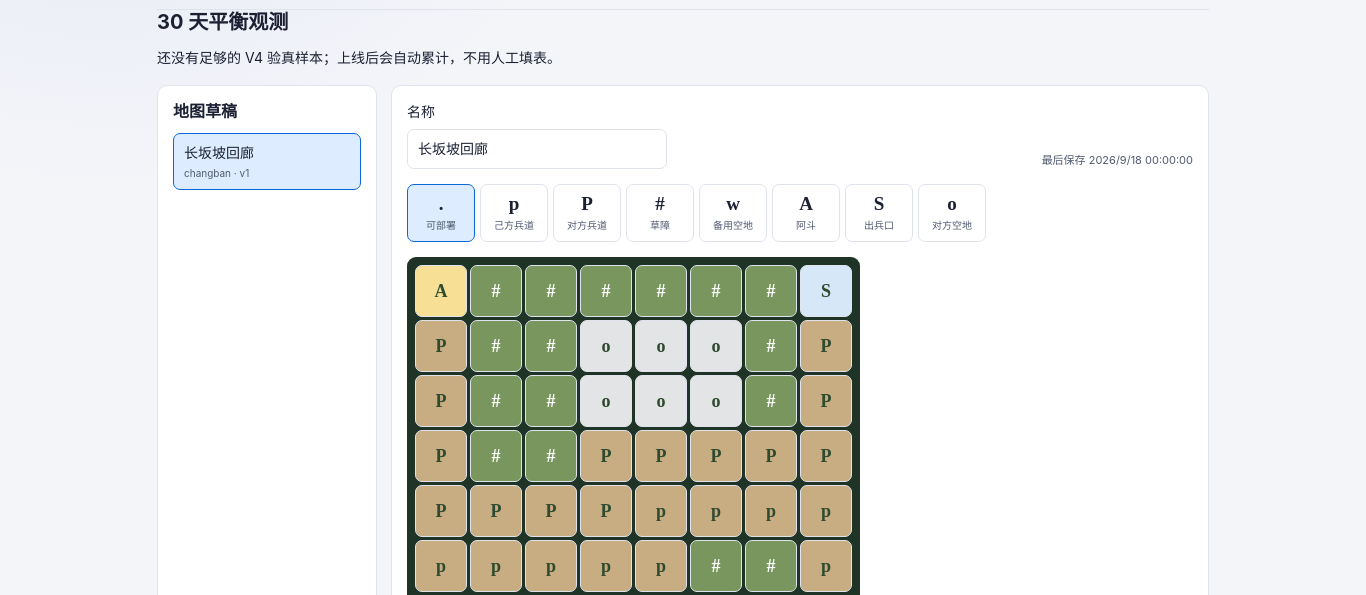
Test: WordFrontMapStudioPage › loads an 8 by 10 draft and saves an optimistic version after painting
Expected: the button "长坂坡回廊 changban · v1" is shown, top-left (173, 133), bottom-right (361, 190)
Click the button "w 备用空地" at (733, 213), box top-left (699, 184), bottom-right (767, 242)
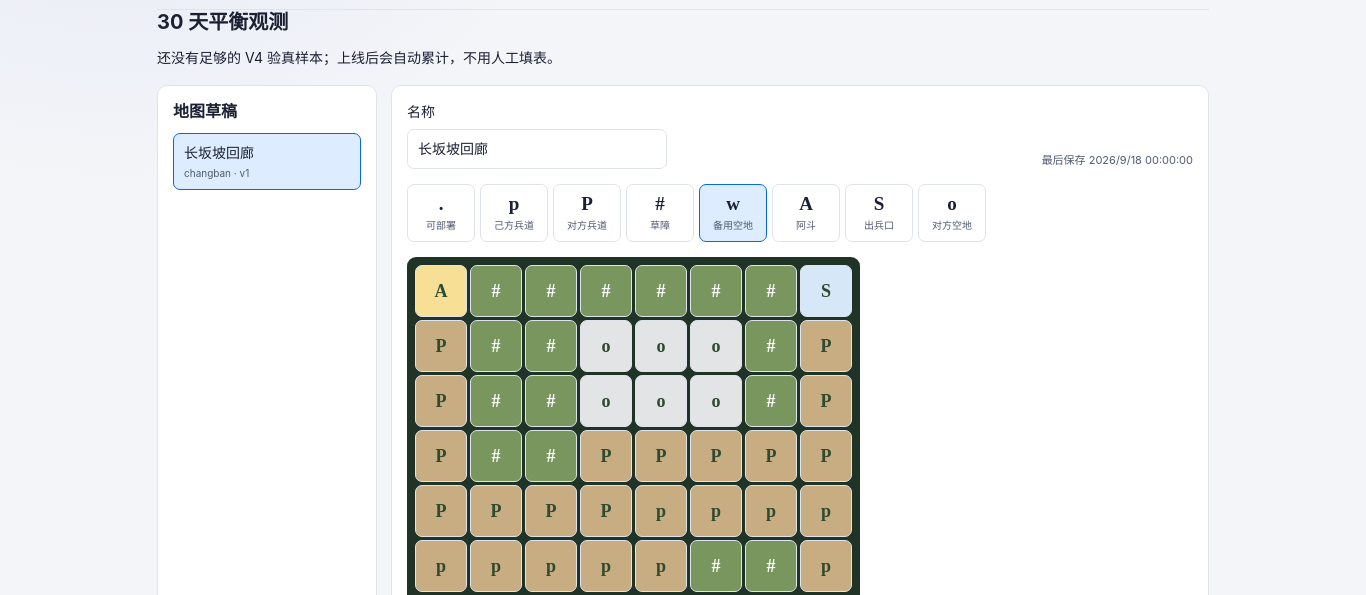
Click the cell named "1行1列，阿斗" at (441, 291), box top-left (415, 265), bottom-right (467, 317)
(page scrolled)
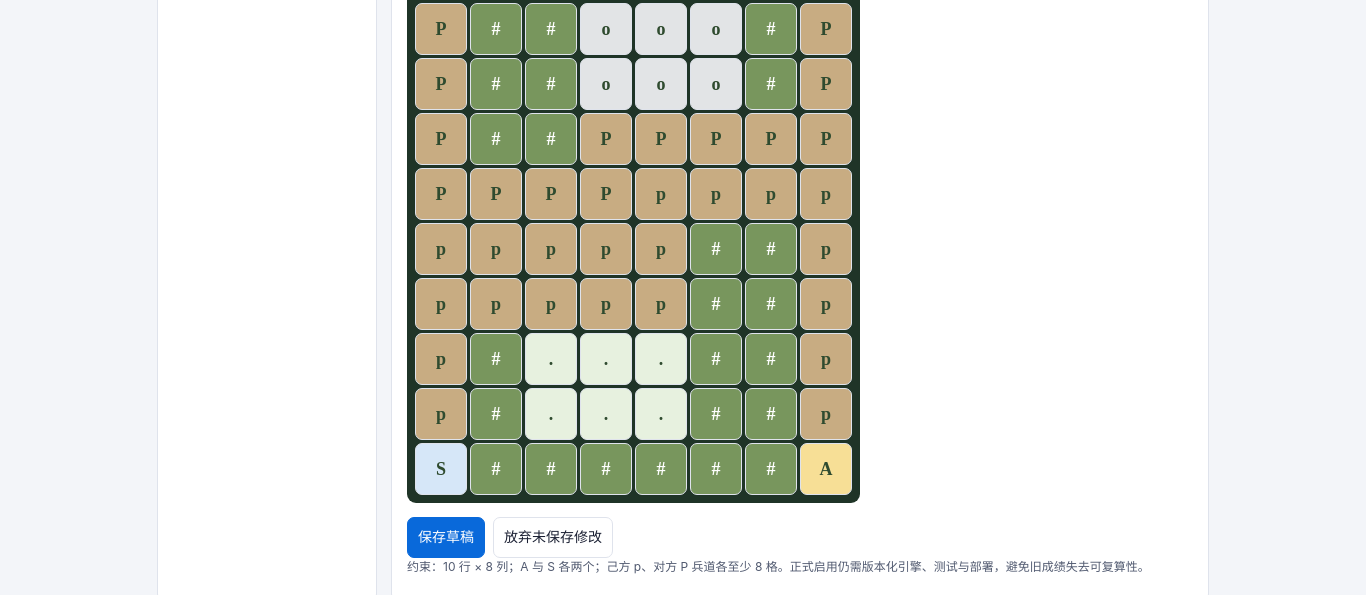
Click the button "保存草稿" at (446, 537), box top-left (407, 517), bottom-right (485, 558)
(page scrolled)
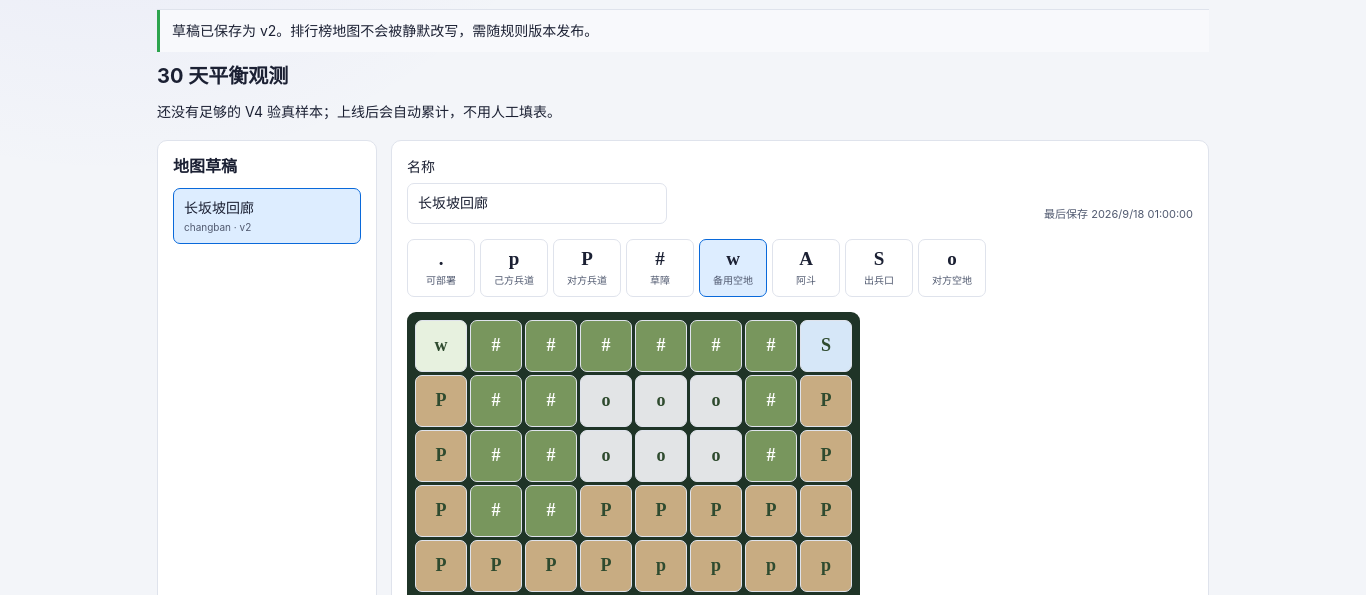
Now the text "草稿已保存为 v2。排行榜地图不会被静默改写，需随规则版本发布。" is shown, box top-left (157, 10), bottom-right (1209, 52)
